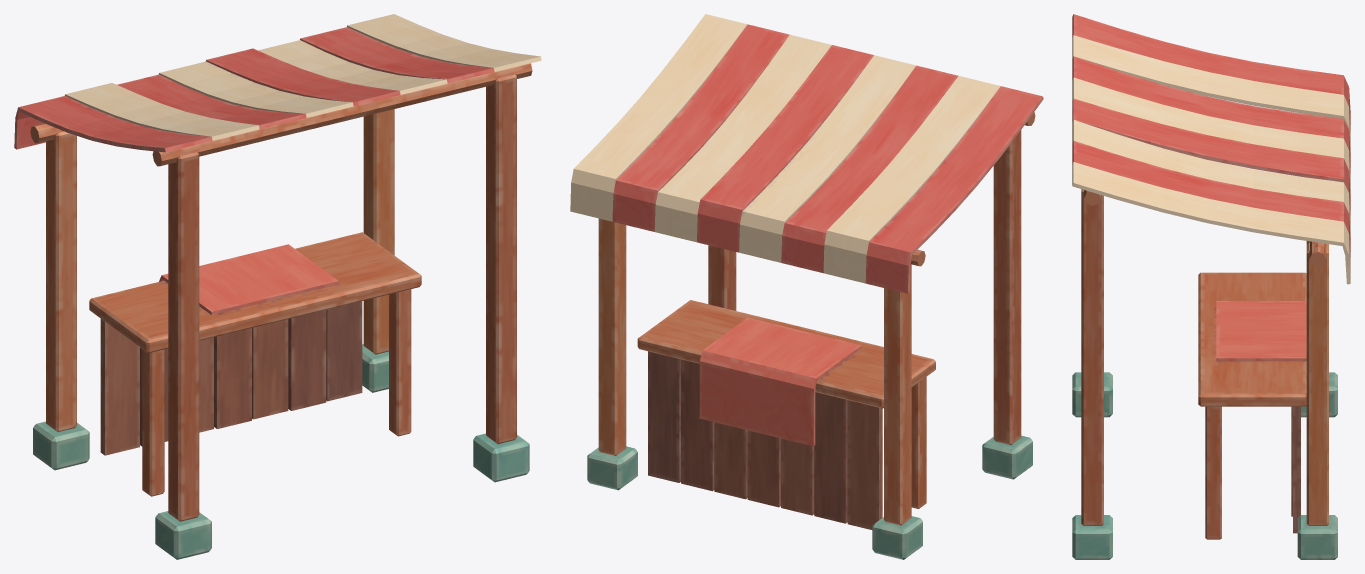
The model's file is stall.fbx.
3 views of the same model, side by side, from view 1: azimuth 30°, elevation 25°; view 2: azimuth 150°, elevation 25°; view 3: azimuth 270°, elevation 25° (orthographic). The views are drawn at different scales.
Visible parts, largest first — view 1: stall; view 2: stall; view 3: stall.
Boxes of the visible parts, x1,y1,x2,y2 form: stall: (14, 14, 541, 559); stall: (570, 14, 1043, 559); stall: (1072, 14, 1350, 559).
Size of the model in its own units: 7.1 by 7.5 by 4.95.
1 material, 1 textured.
